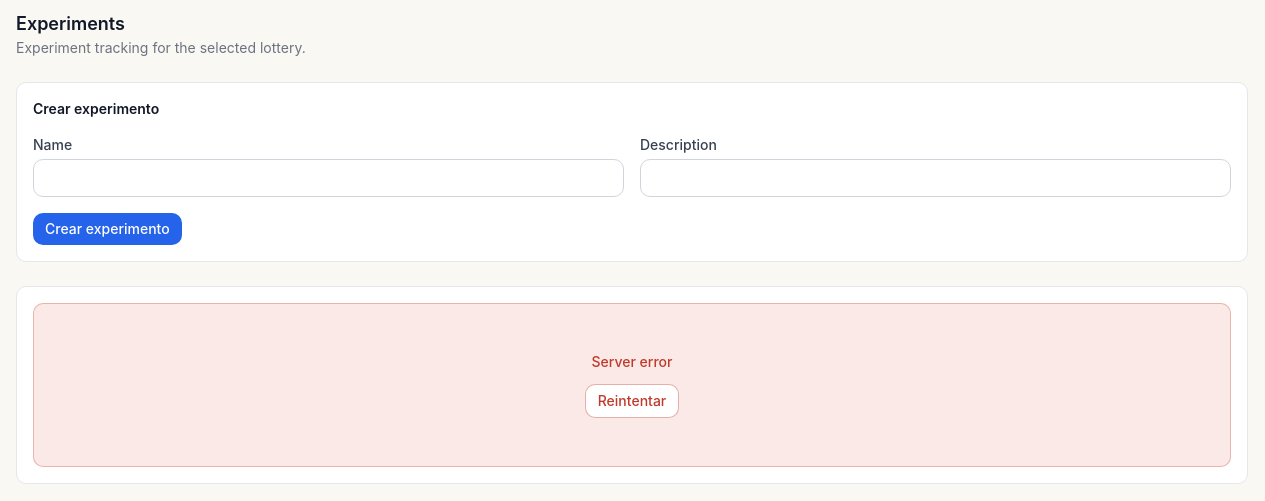
Test: Experiments › shows an error state with retry and recovers on retry
Expected: the message shows "Server error", [592,353,672,370]
Click the button "Reintentar": (632, 401) [585,384,679,418]
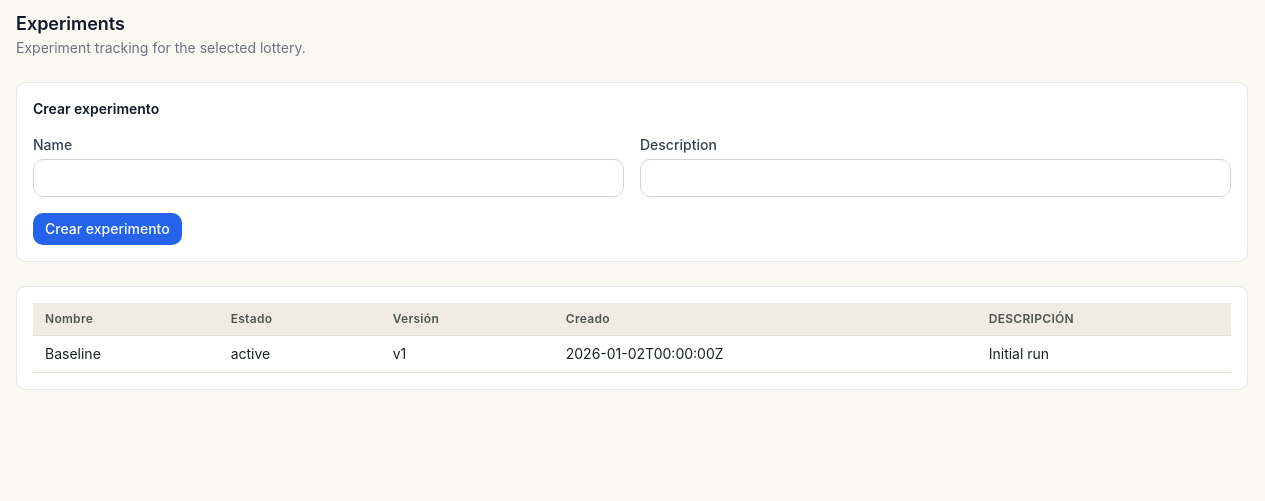
Expected: the table is shown, [33,303,1231,373]
Expected: the message "Server error Reintentar" is gone
